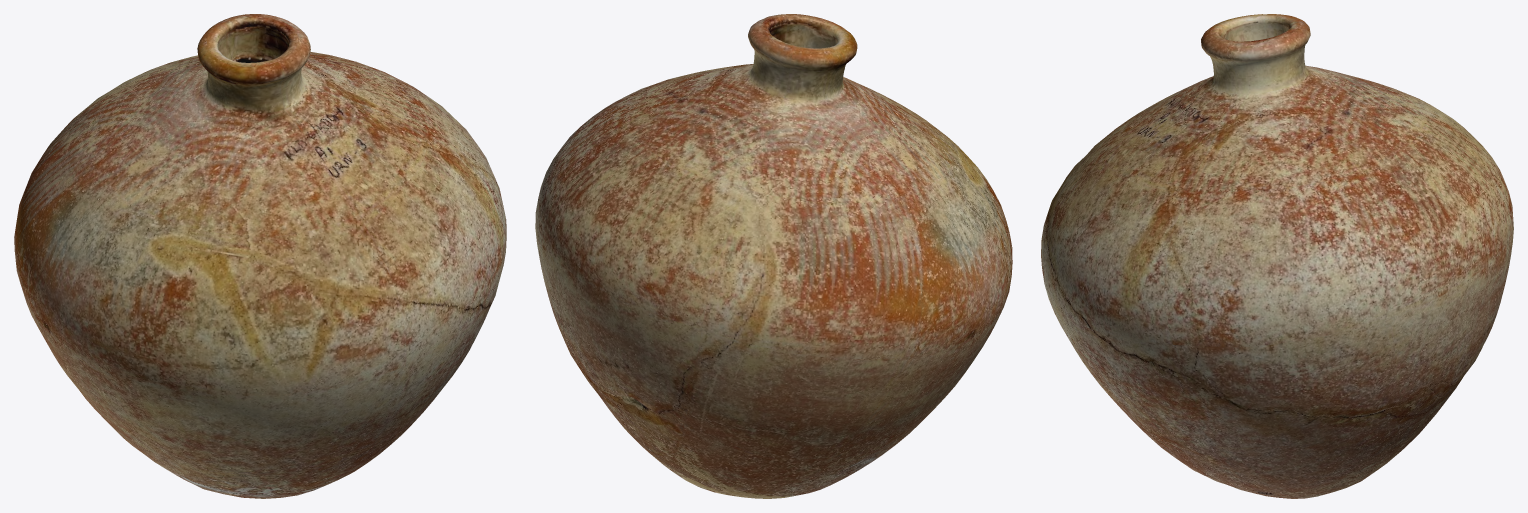
Rendered from PAINTED-POT.glb.
The picture shows the model from 3 angles, left to right: view 1: azimuth 30°, elevation 25°; view 2: azimuth 150°, elevation 25°; view 3: azimuth 270°, elevation 25°; orthographic projection. The views are drawn at different scales.
Parts seen in each view (by area): view 1: EMB_KDG-1-URN3-PAINTED-POT-SL20; view 2: EMB_KDG-1-URN3-PAINTED-POT-SL20; view 3: EMB_KDG-1-URN3-PAINTED-POT-SL20.
Boxes of the visible parts, x1,y1,x2,y2 form: EMB_KDG-1-URN3-PAINTED-POT-SL20: (14, 14, 506, 498); EMB_KDG-1-URN3-PAINTED-POT-SL20: (535, 14, 1012, 498); EMB_KDG-1-URN3-PAINTED-POT-SL20: (1041, 14, 1513, 498).
Bounding box in the file's own units: 0.2186 × 0.2305 × 0.2177.
1 material, 1 textured.
